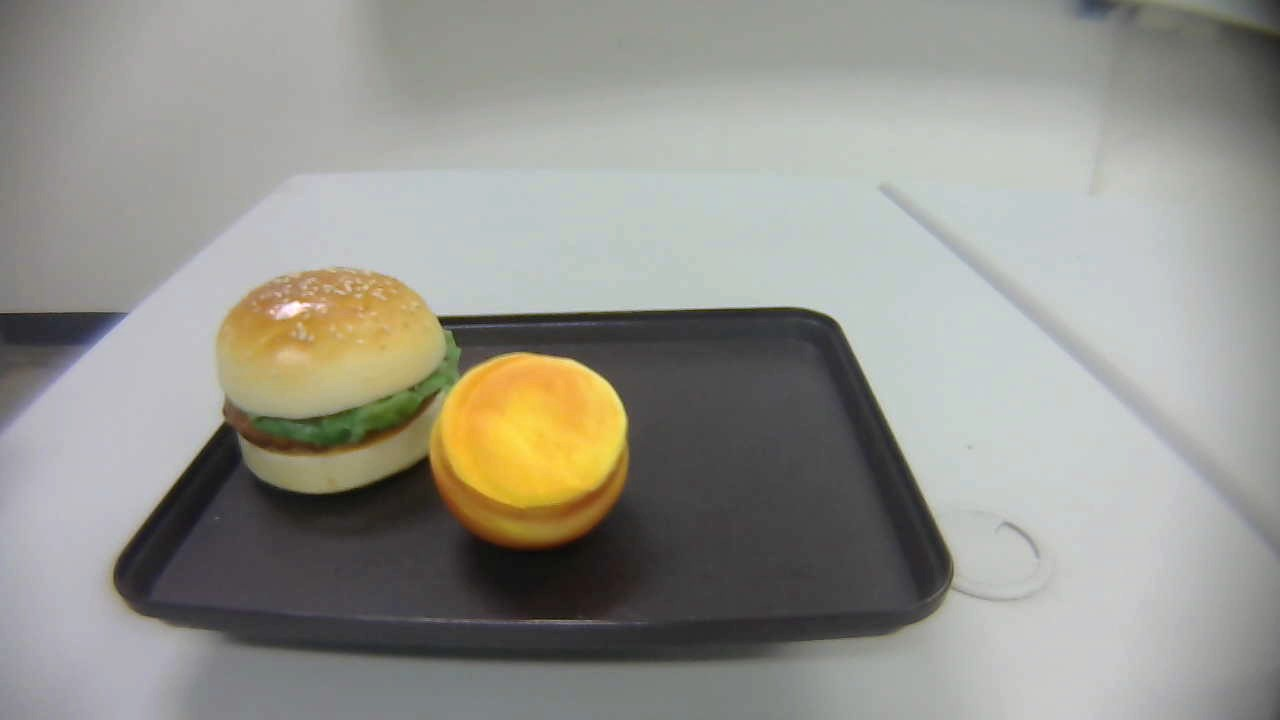bun: (427, 351, 630, 552)
hamburger: (215, 267, 458, 494)
